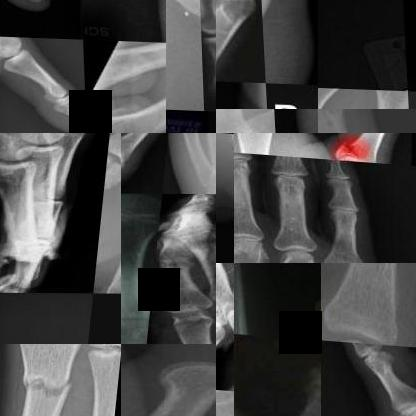fracture: (19, 355, 90, 415), (157, 344, 215, 413), (0, 241, 36, 293), (328, 133, 373, 159), (166, 0, 201, 24), (106, 155, 120, 199), (177, 133, 215, 140)
